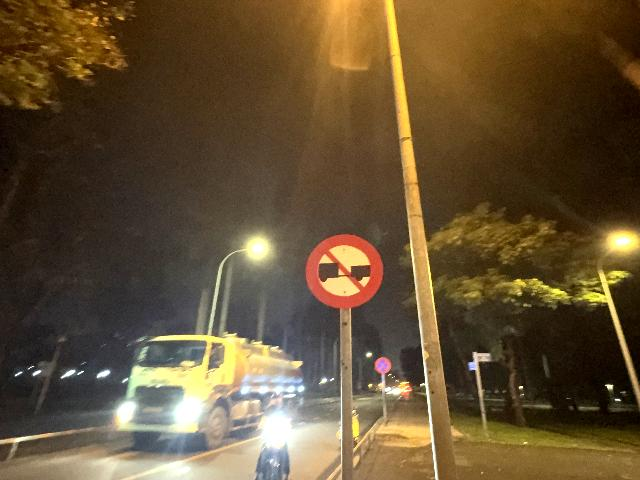cam-xe-somi-romooc: (305, 234, 384, 310)
